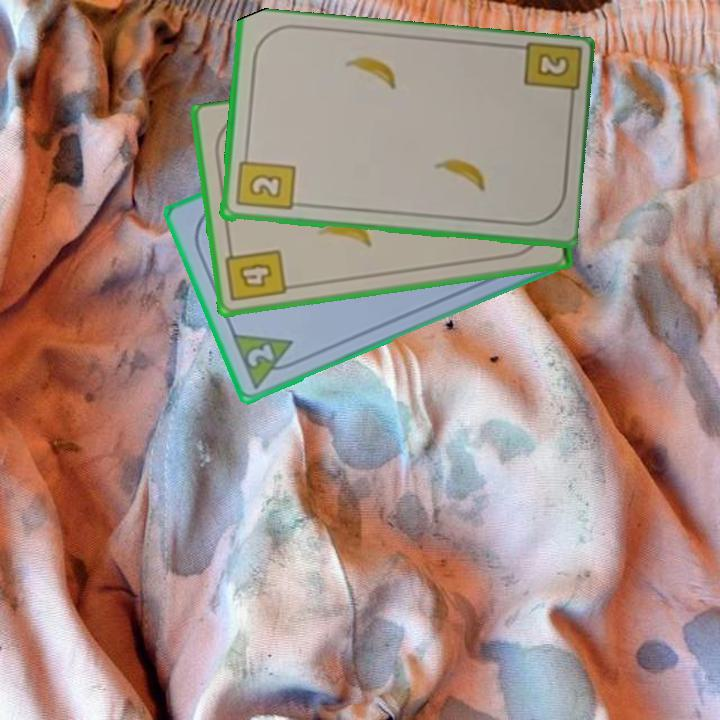2b: (232, 148, 297, 214), (519, 41, 580, 111)
2p: (243, 340, 277, 371)
4b: (222, 242, 289, 305)
